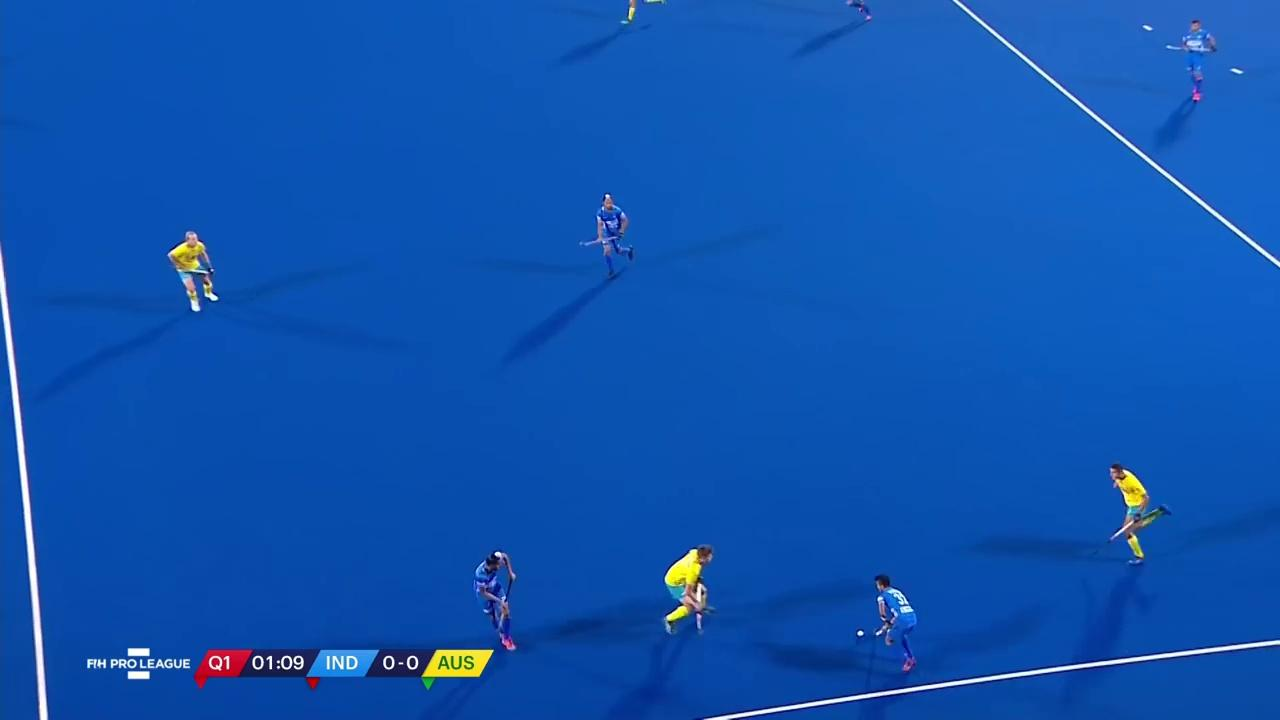ball: (854, 628, 869, 642)
